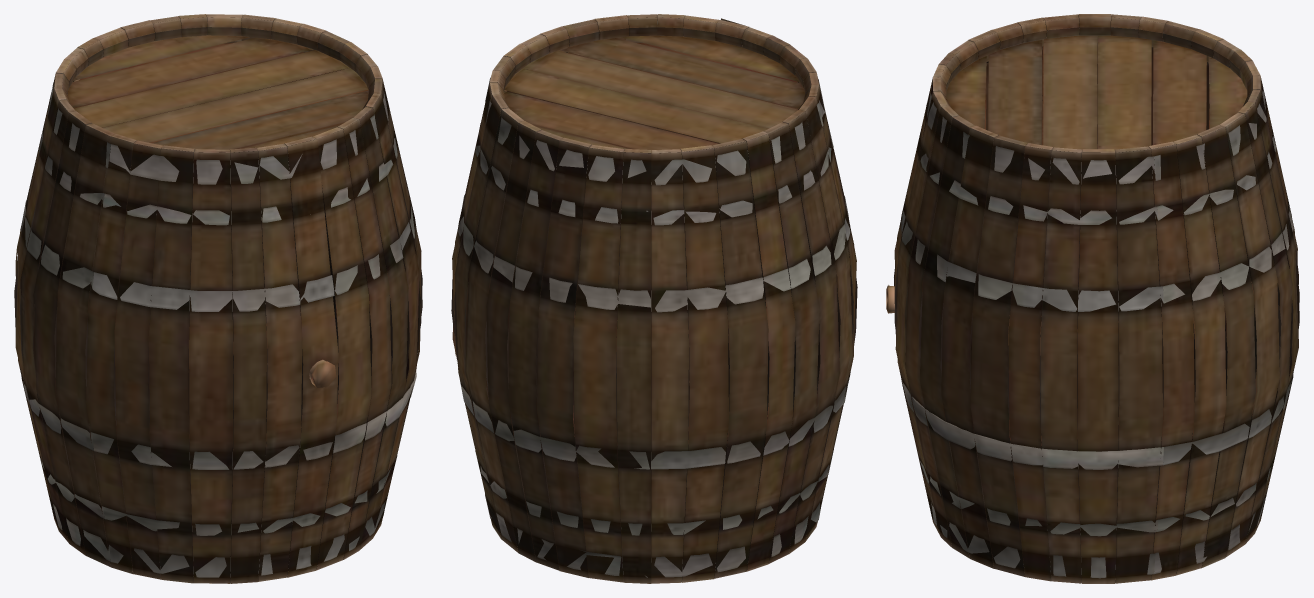
The model's file is barrel_wine.glb.
3 views of the same model, side by side, from view 1: azimuth 30°, elevation 25°; view 2: azimuth 150°, elevation 25°; view 3: azimuth 270°, elevation 25° (orthographic).
Parts seen in each view (by area): view 1: wine_barrel_01, wine_barrel_01_Lid, wine_barrel_01_bung; view 2: wine_barrel_01, wine_barrel_01_Lid; view 3: wine_barrel_01, wine_barrel_01_Lid.
Part boxes in pixels (x1=…): wine_barrel_01: x1=14, y1=14, x2=422, y2=583; wine_barrel_01_Lid: x1=67, y1=35, x2=368, y2=149; wine_barrel_01_bung: x1=309, y1=359, x2=336, y2=387; wine_barrel_01: x1=451, y1=14, x2=857, y2=583; wine_barrel_01_Lid: x1=504, y1=35, x2=805, y2=152; wine_barrel_01: x1=894, y1=14, x2=1299, y2=583; wine_barrel_01_Lid: x1=946, y1=35, x2=1247, y2=149.
Bounding box in the file's own units: 0.742 × 0.8716 × 0.756.
Materials: 1 (1 with a texture image).
